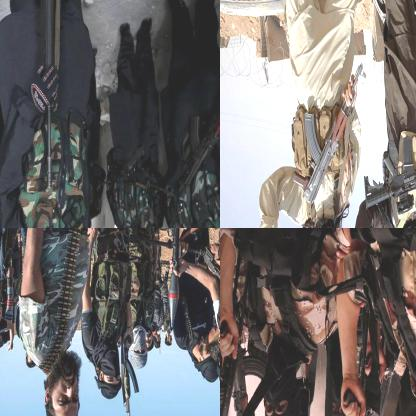rifle: (293, 64, 366, 216), (166, 55, 219, 199), (27, 0, 65, 192), (220, 251, 250, 415), (364, 134, 415, 215), (164, 228, 199, 329), (118, 329, 141, 415), (232, 366, 270, 415)
